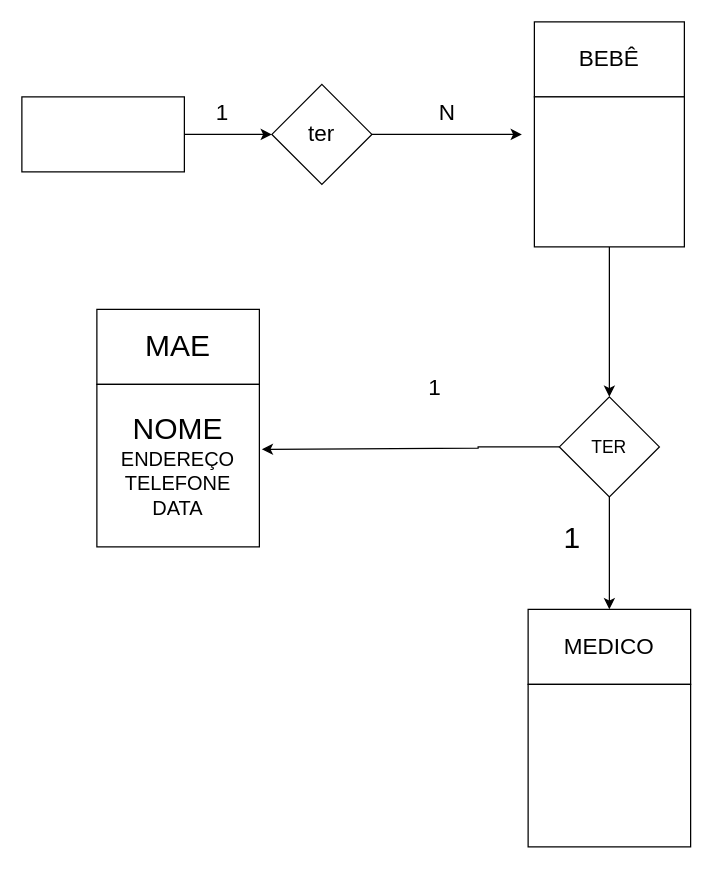
This 713x869 diagram has some shape labels left out. Each missing label, with the centre of its shape:
"bersário" belongs at (102,134).
"CRM NOME ESPECIALIDADE" belongs at (609,765).
"NOME DATA PESO ALTURA" belongs at (608,171).
